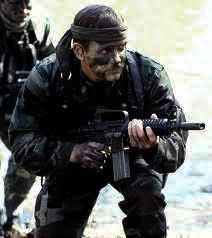gun: (62, 109, 205, 182)
